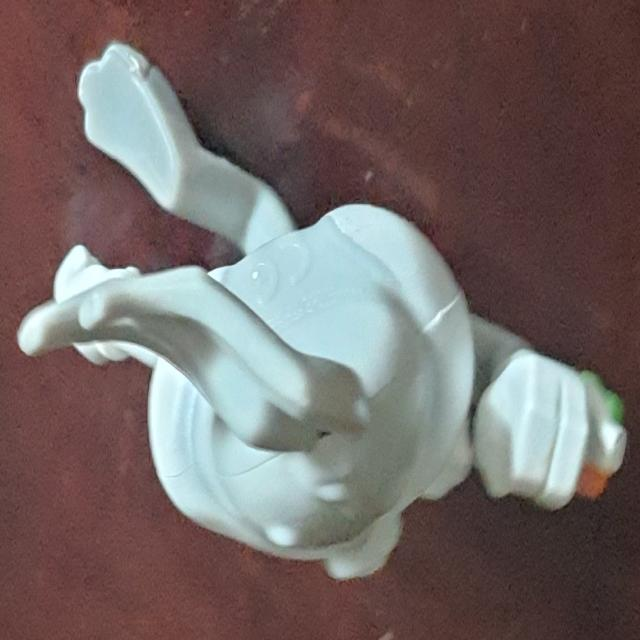Rabbit: (17, 42, 628, 584)
